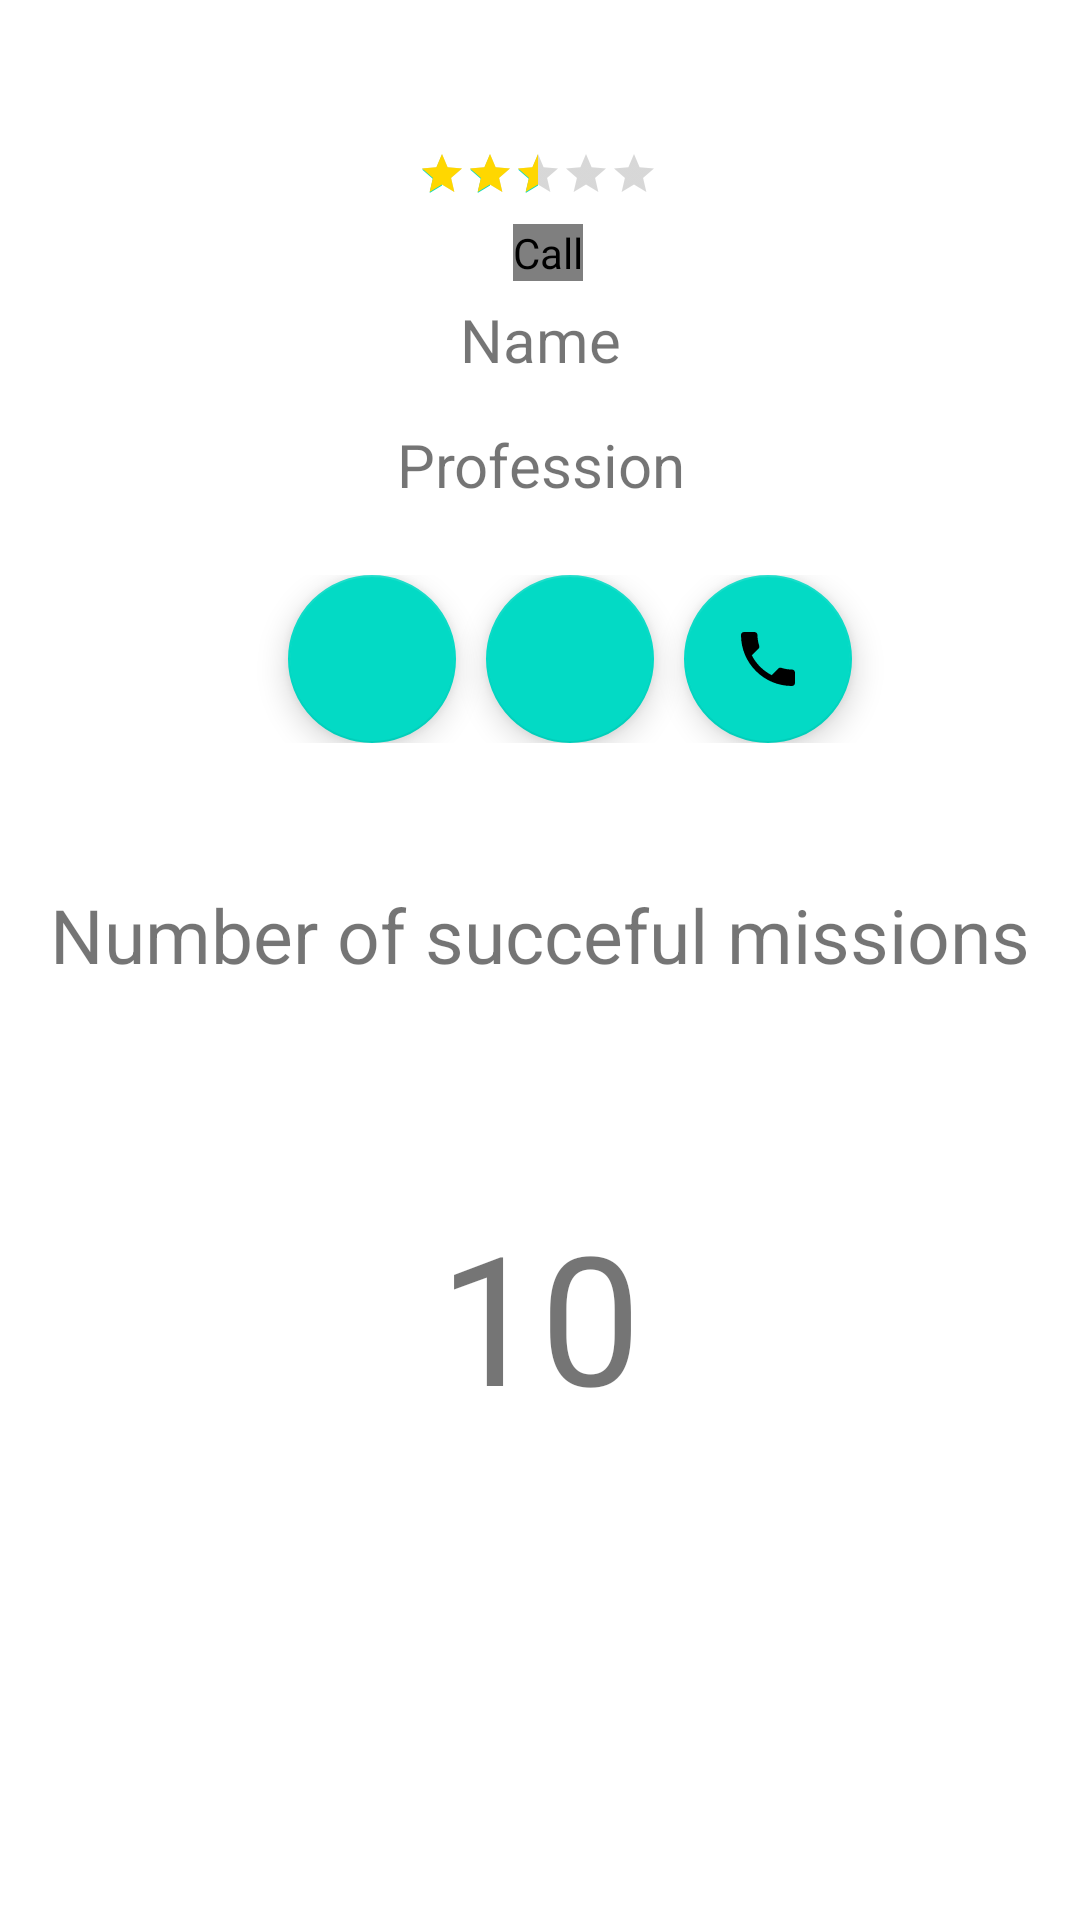

Screen size 1080w x 1920h. Icon name, then its box in pixels as bbox(x1, y1, x2, y2):
phone: bbox(684, 575, 852, 743)
